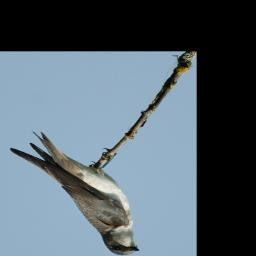Swallow: (9, 131, 140, 256)
